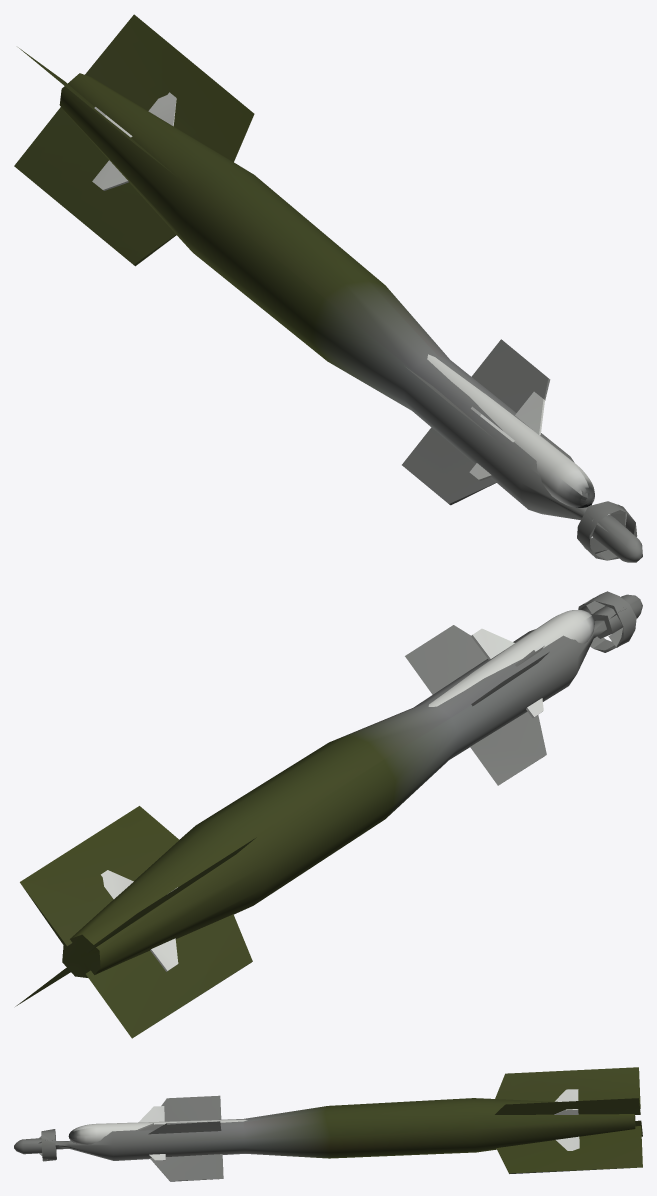
Rendered from ordnance.glb.
3 views of the same model, one above another, from view 1: azimuth 30°, elevation 25°; view 2: azimuth 150°, elevation 25°; view 3: azimuth 270°, elevation 25° (orthographic). The views are drawn at different scales.
Visible parts, largest first — view 1: proj_gbu, proj_aim9x; view 2: proj_gbu, proj_aim9x; view 3: proj_gbu, proj_aim9x.
Part boxes in pixels (x1,y1,x2,y2): proj_gbu: (14, 14, 642, 562); proj_aim9x: (92, 92, 594, 507); proj_gbu: (15, 591, 642, 1038); proj_aim9x: (101, 610, 594, 971); proj_gbu: (14, 1067, 642, 1181); proj_aim9x: (68, 1089, 579, 1160).
Size of the model in its own units: 0.4597 by 0.566 by 3.71.
